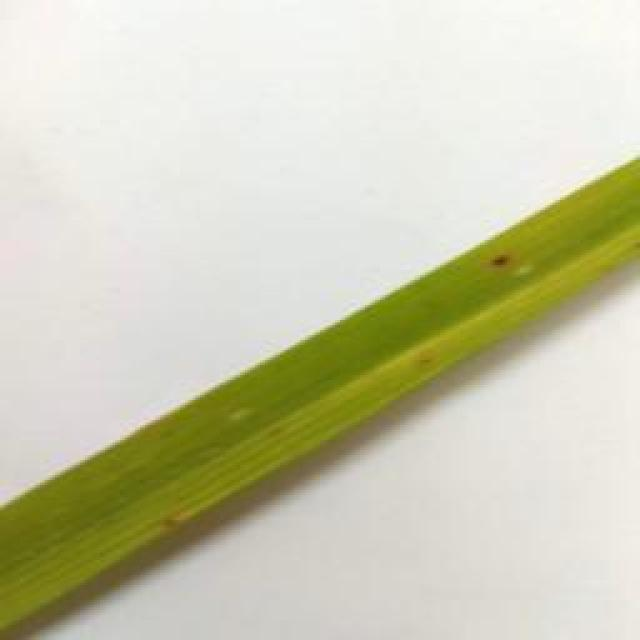Brown_Spot: (486, 243, 521, 278), (154, 507, 193, 537), (420, 350, 440, 372)
